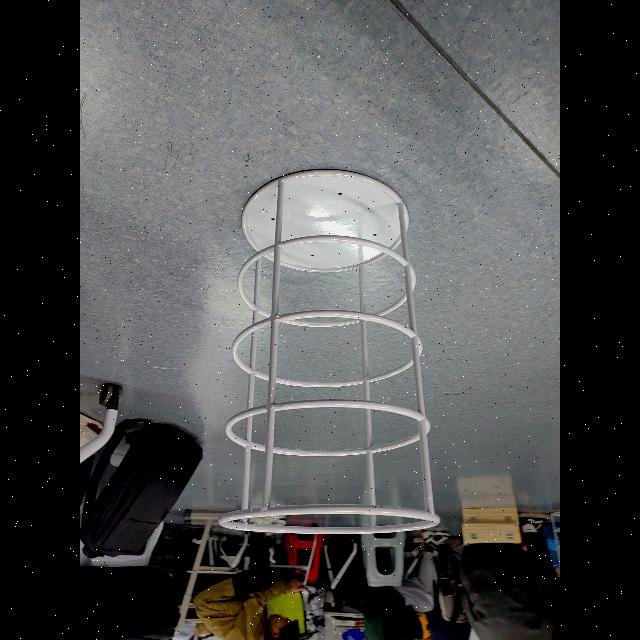S: (213, 160, 441, 544)
